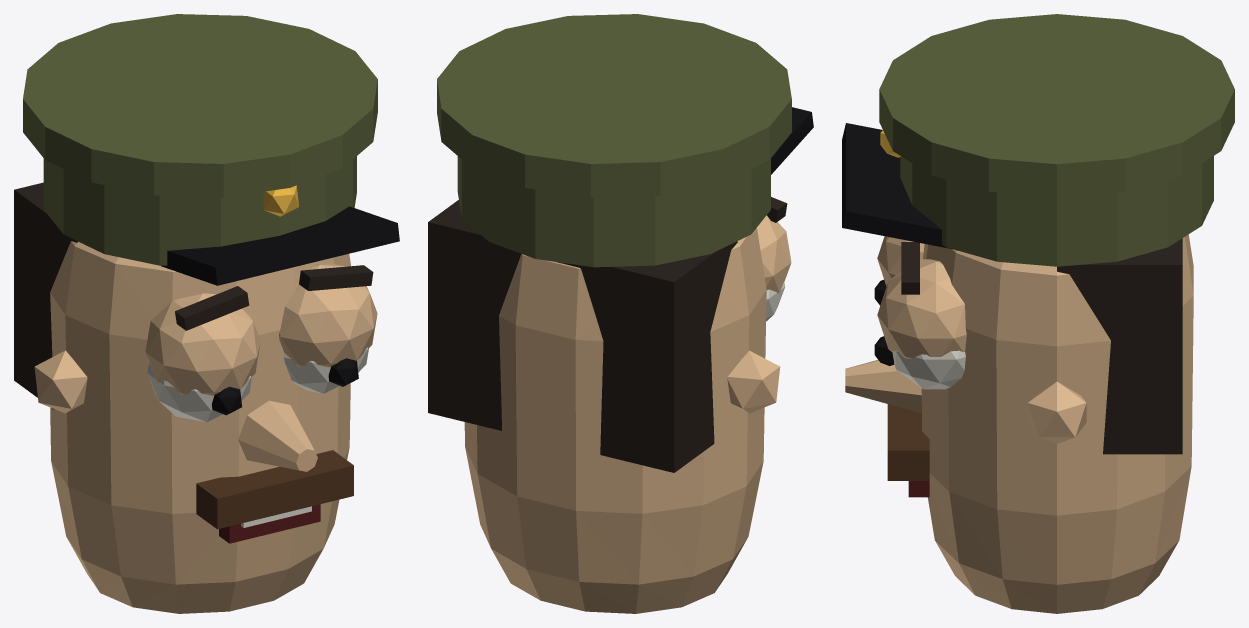
The model's file is PersonVaultHead.obj.
3 views of the same model, side by side, from view 1: azimuth 30°, elevation 25°; view 2: azimuth 150°, elevation 25°; view 3: azimuth 270°, elevation 25° (orthographic).
Visible parts, largest first — view 1: PersonVaultHead; view 2: PersonVaultHead; view 3: PersonVaultHead.
Boxes of the visible parts, <box> form: PersonVaultHead: <box>14,14,399,613</box>; PersonVaultHead: <box>428,14,813,613</box>; PersonVaultHead: <box>842,14,1234,613</box>.
Size of the model in its own units: 0.355 by 0.5025 by 0.3757.
